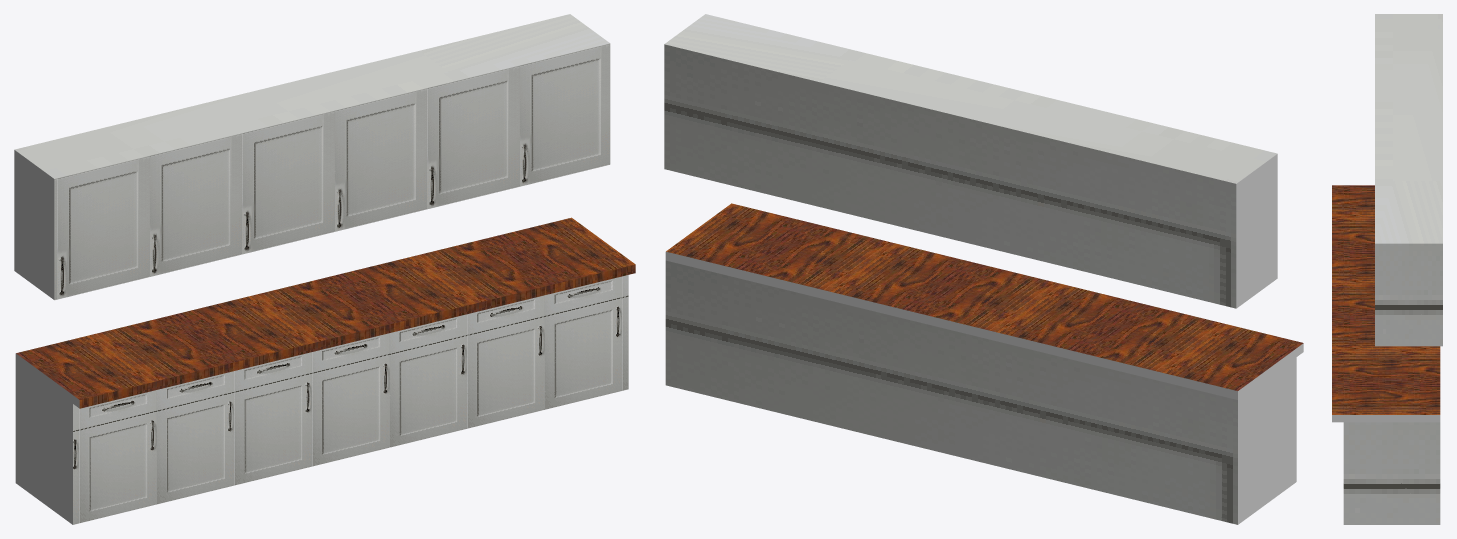
Rendered from cabinet.glb.
3 views of the same model, side by side, from view 1: azimuth 30°, elevation 25°; view 2: azimuth 150°, elevation 25°; view 3: azimuth 270°, elevation 25° (orthographic). The views are drawn at different scales.
Visible parts, largest first — view 1: Cube, Cube.001; view 2: Cube, Cube.001; view 3: Cube, Cube.001.
Part boxes in pixels (bbox=[...]): Cube: bbox=[15, 217, 635, 524]; Cube.001: bbox=[14, 14, 610, 300]; Cube: bbox=[665, 203, 1303, 524]; Cube.001: bbox=[664, 14, 1277, 308]; Cube: bbox=[1332, 185, 1440, 524]; Cube.001: bbox=[1375, 14, 1442, 346].
Size of the model in its own units: 4 by 2.29 by 0.8162.
Materials: 4 (3 with a texture image).
